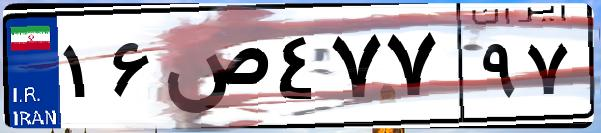1: (57, 26, 110, 100)
4: (270, 28, 330, 110)
6: (110, 28, 158, 98)
7: (385, 28, 445, 110), (330, 28, 385, 110), (525, 38, 570, 115)
9: (475, 38, 525, 113)
ص: (158, 20, 270, 120)
